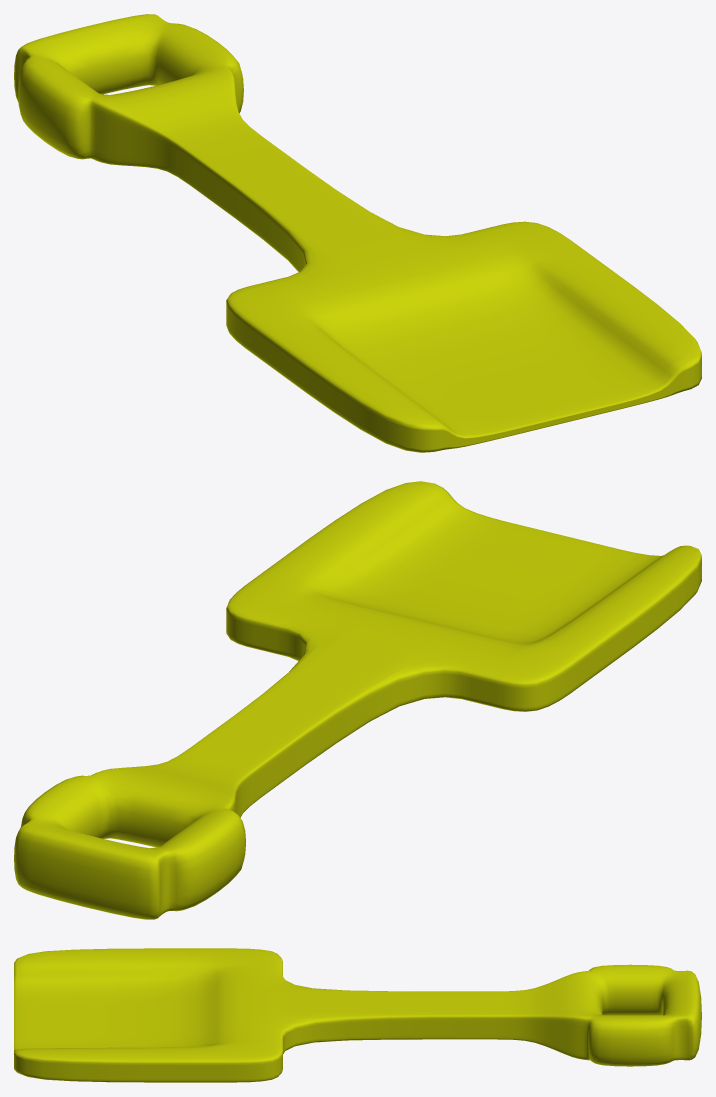
The model's file is Schaufeld.fbx.
3 renders of one model, top to bottom at view 1: azimuth 30°, elevation 25°; view 2: azimuth 150°, elevation 25°; view 3: azimuth 270°, elevation 25°, orthographic. The views are drawn at different scales.
Visible parts, largest first — view 1: Schaufel; view 2: Schaufel; view 3: Schaufel.
Boxes of the visible parts, box(x1,y1,x2,y2) form: Schaufel: box(14, 14, 701, 452); Schaufel: box(14, 481, 701, 919); Schaufel: box(14, 948, 701, 1082).
Size of the model in its own units: 200 by 37.64 by 512.
